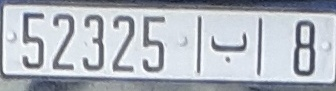2: (50, 13, 78, 71), (111, 14, 137, 73)
3: (80, 14, 106, 72)
5: (20, 10, 45, 69), (141, 14, 166, 73)
8: (290, 18, 319, 77)
b: (208, 28, 250, 63)
